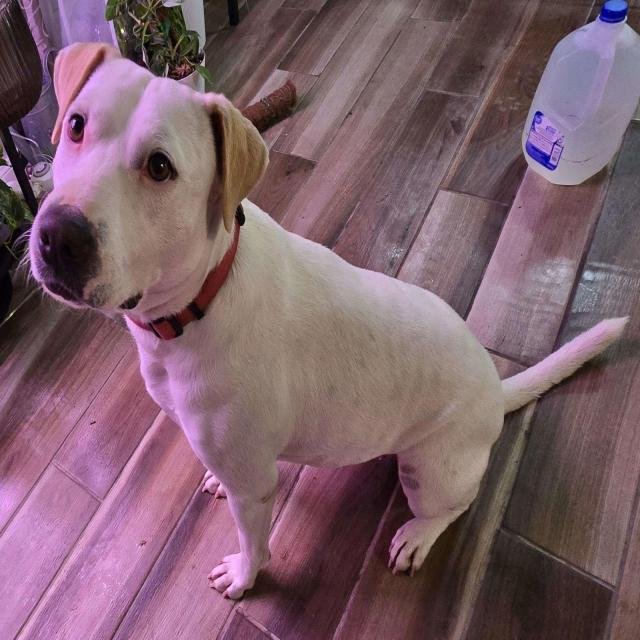labrador_retriever_dog: (20, 32, 276, 330)
